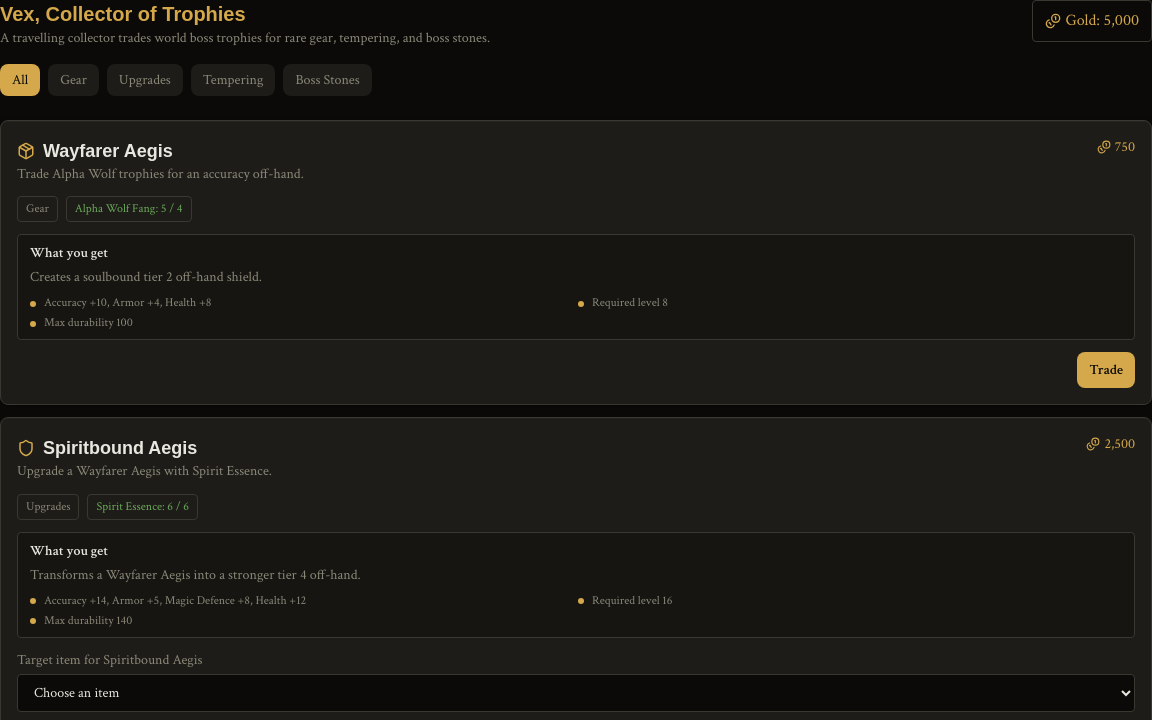
Test: VexScreen › filters exchanges by category
Check: the heading "Wayfarer Aegis" is shown, box [43,137,173,165]
Click the button "Boss Stones" at x=328, y=80, box [283,64,372,96]
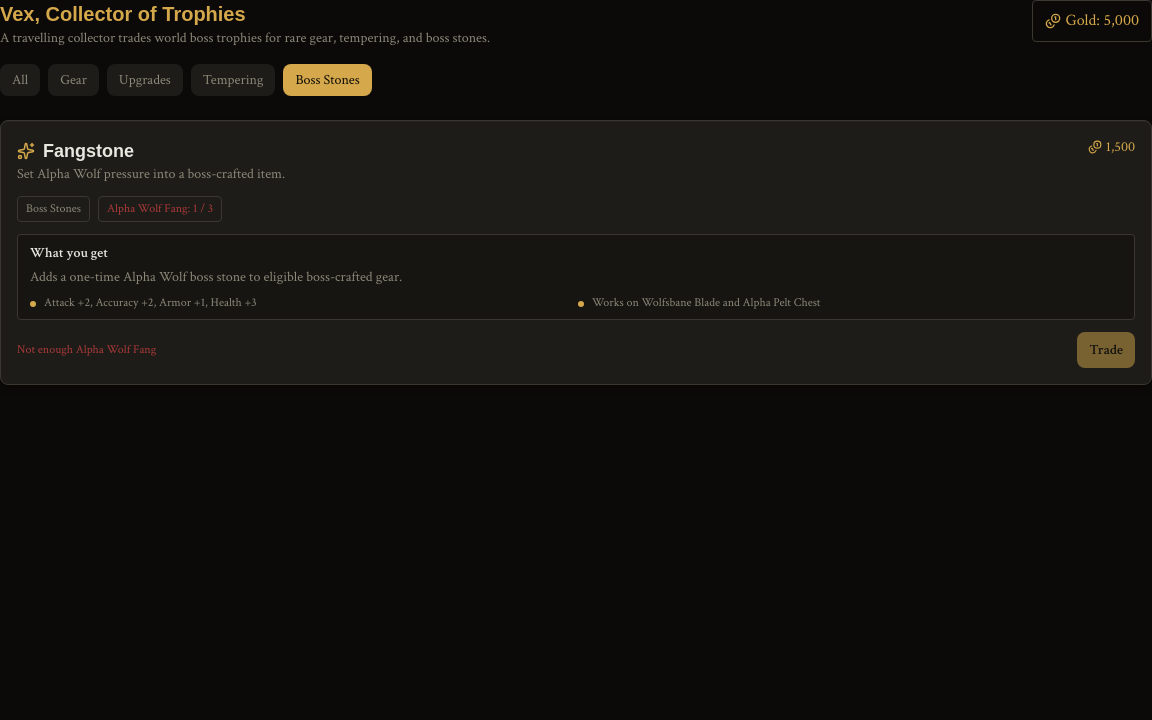
Check: the heading "Fangstone" is shown, box [43,137,134,165]
Check: the heading "Wayfarer Aegis" is gone
Check: the heading "Spiritbound Aegis" is gone
